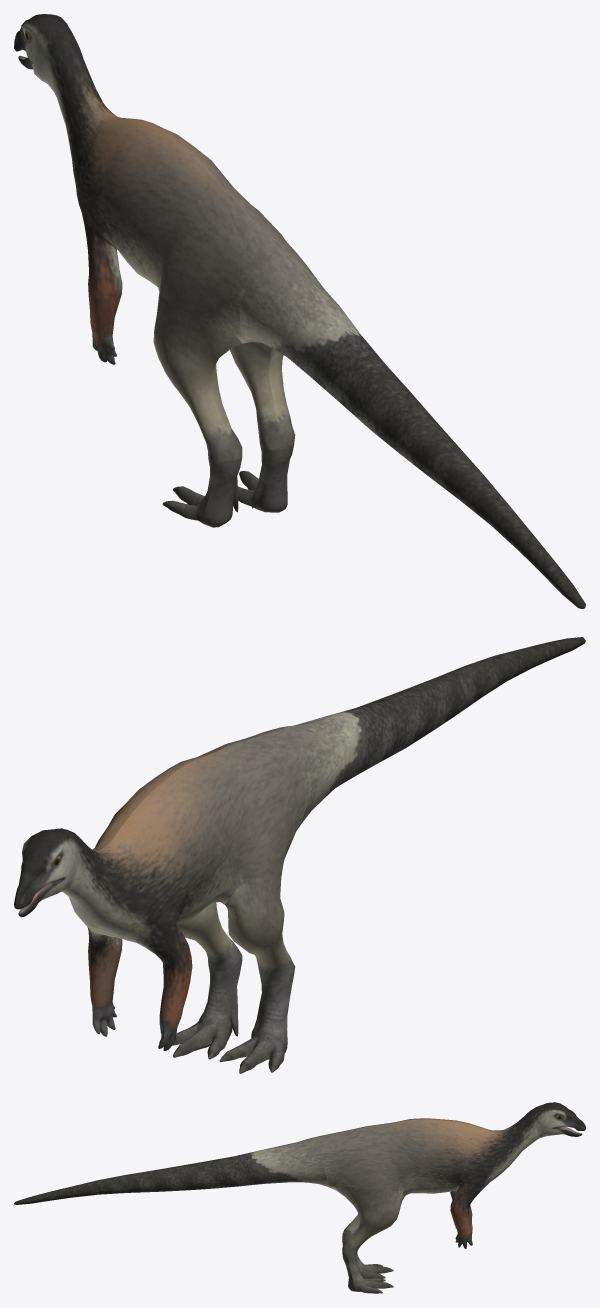
3 renders of one model, top to bottom at view 1: azimuth 30°, elevation 25°; view 2: azimuth 150°, elevation 25°; view 3: azimuth 270°, elevation 25°, orthographic. The views are drawn at different scales.
Visible parts, largest first — view 1: Object_3; view 2: Object_3; view 3: Object_3.
Boxes of the visible parts, x1=… form: Object_3: x1=14, y1=14, x2=585, y2=608; Object_3: x1=14, y1=637, x2=585, y2=1073; Object_3: x1=14, y1=1102, x2=585, y2=1293.
Size of the model in its own units: 1.43 by 4.31 by 12.47.
Materials: 2 (2 with a texture image).
